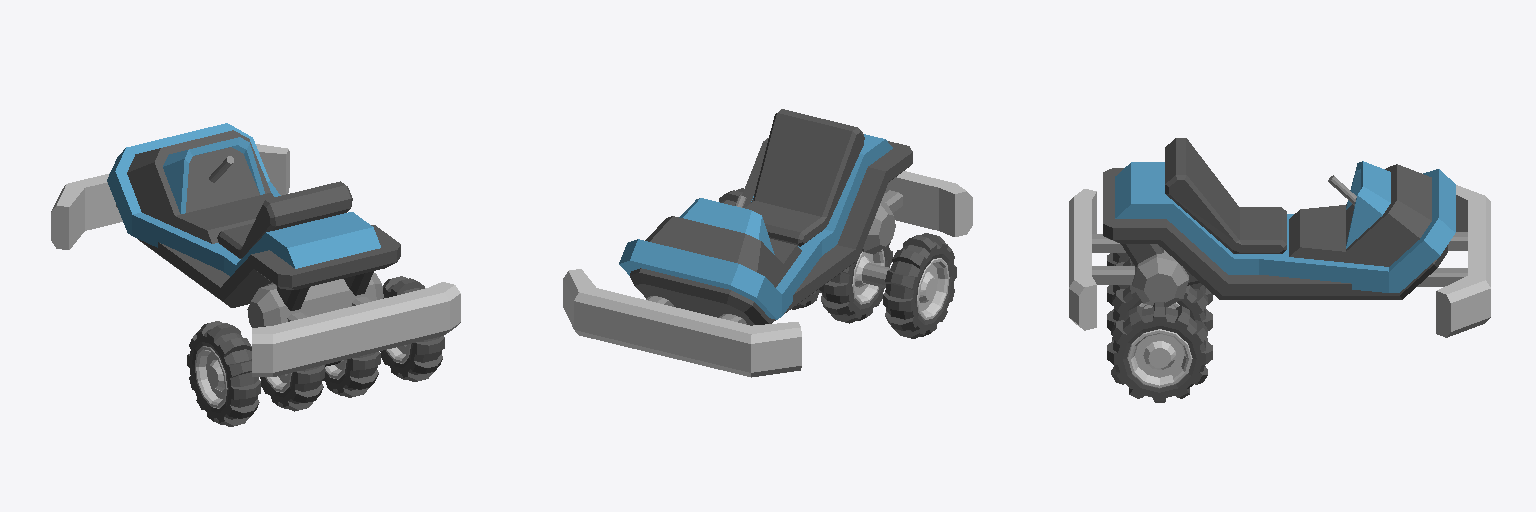
File: Kart_V2.obj
3 views of the same model, side by side, from view 1: azimuth 30°, elevation 25°; view 2: azimuth 150°, elevation 25°; view 3: azimuth 270°, elevation 25° (orthographic).
Visible parts, largest first — view 1: Frame, Back_Wheels, Front_Left_Wheel, Front_Right_Wheel; view 2: Frame, Back_Wheels, Front_Left_Wheel; view 3: Frame, Back_Wheels, Front_Right_Wheel.
Boxes of the visible parts, box(x1,y1,x2,y2) form: Frame: box(51, 123, 460, 376); Back_Wheels: box(187, 276, 444, 426); Front_Left_Wheel: box(260, 365, 324, 411); Front_Right_Wheel: box(322, 352, 380, 397); Frame: box(563, 109, 972, 377); Back_Wheels: box(719, 188, 956, 338); Front_Left_Wheel: box(819, 242, 892, 323); Frame: box(1069, 138, 1490, 337); Back_Wheels: box(1107, 253, 1212, 402); Front_Right_Wheel: box(1107, 285, 1212, 340).
Bounding box in the file's own units: 2.6 × 2.08 × 3.99.